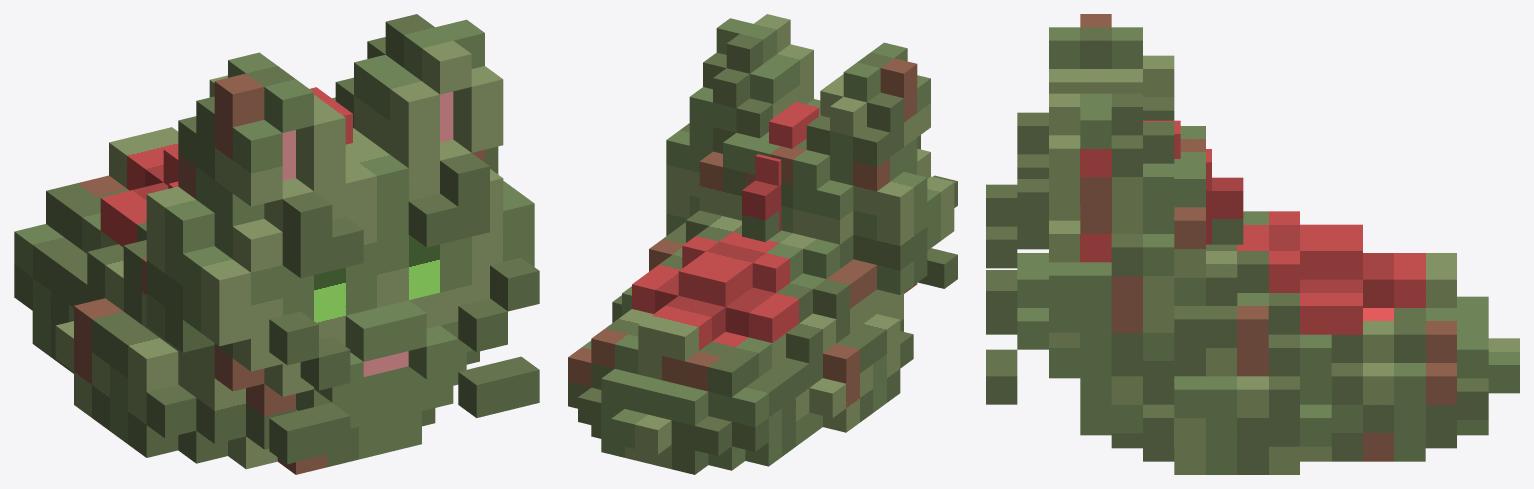
Rendered from skin_rose_1.fbx.
3 views of the same model, side by side, from view 1: azimuth 30°, elevation 25°; view 2: azimuth 150°, elevation 25°; view 3: azimuth 270°, elevation 25° (orthographic). The views are drawn at different scales.
Visible parts, largest first — view 1: skin_8-5, skin_8-0; view 2: skin_8-5, skin_8-0; view 3: skin_8-5, skin_8-0.
Part boxes in pixels (bbox=[...]): skin_8-5: bbox=[14, 14, 539, 474]; skin_8-0: bbox=[310, 87, 352, 144]; skin_8-5: bbox=[568, 14, 957, 474]; skin_8-0: bbox=[742, 102, 819, 241]; skin_8-5: bbox=[986, 14, 1519, 474]; skin_8-0: bbox=[1143, 120, 1243, 244].
Bounding box in the file's own units: 100 × 121 × 170.
Materials: 1 (1 with a texture image).
